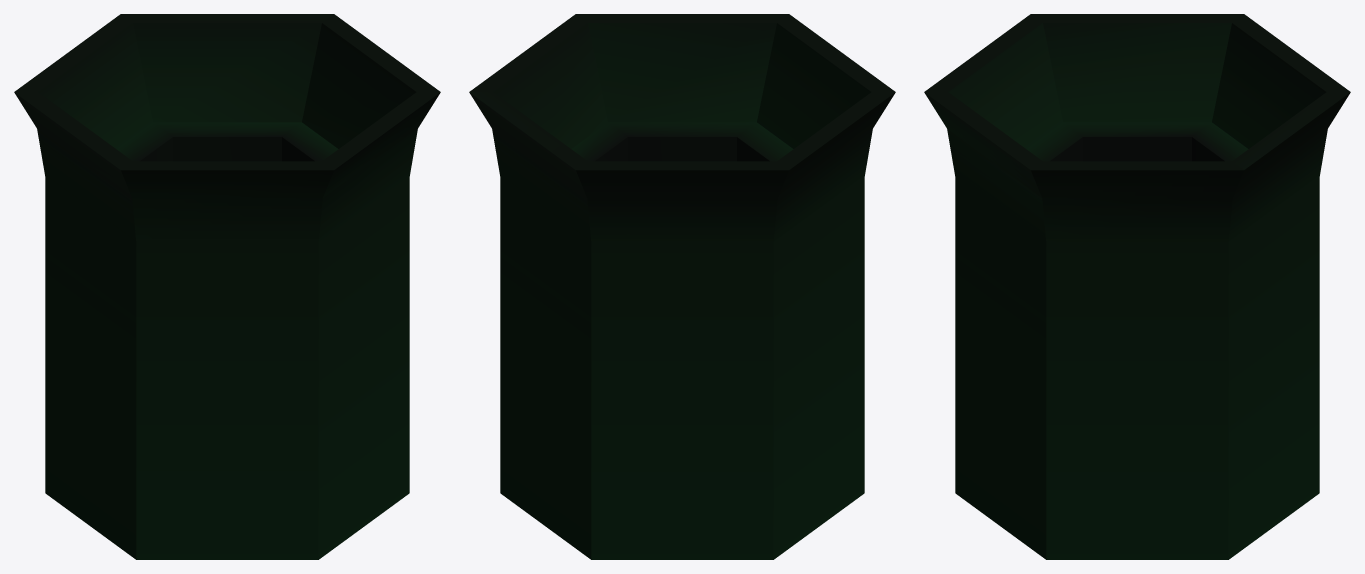
File: garbage.fbx
3 views of the same model, side by side, from view 1: azimuth 30°, elevation 25°; view 2: azimuth 150°, elevation 25°; view 3: azimuth 270°, elevation 25° (orthographic).
Parts seen in each view (by area): view 1: Cylinder.001; view 2: Cylinder.001; view 3: Cylinder.001.
Boxes of the visible parts, <box> form: Cylinder.001: <box>14,14,440,559</box>; Cylinder.001: <box>469,14,895,559</box>; Cylinder.001: <box>924,14,1350,559</box>.
Size of the model in its own units: 44.98 by 53.86 by 51.94.
